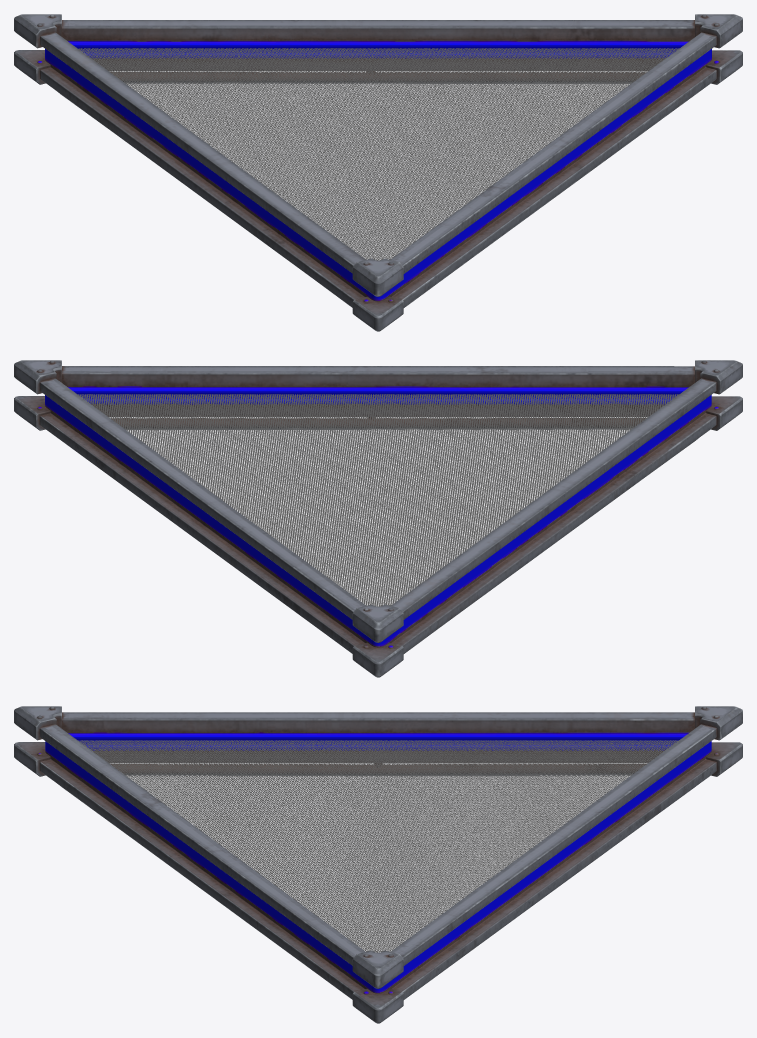
Rendered from BP_TriCeiling_Greenhouse_C.glb.
3 views of the same model, one above another, from view 1: azimuth 30°, elevation 25°; view 2: azimuth 150°, elevation 25°; view 3: azimuth 270°, elevation 25° (orthographic).
Parts seen in each view (by area): view 1: SM_Greenhouse_CeilingTriangle; view 2: SM_Greenhouse_CeilingTriangle; view 3: SM_Greenhouse_CeilingTriangle.
Boxes of the visible parts, box(x1,y1,x2,y2) form: SM_Greenhouse_CeilingTriangle: box(14, 14, 742, 331); SM_Greenhouse_CeilingTriangle: box(14, 360, 742, 677); SM_Greenhouse_CeilingTriangle: box(14, 706, 742, 1023).
Size of the model in its own units: 2.63 by 0.2942 by 3.03.
Materials: 2 (2 with a texture image).
